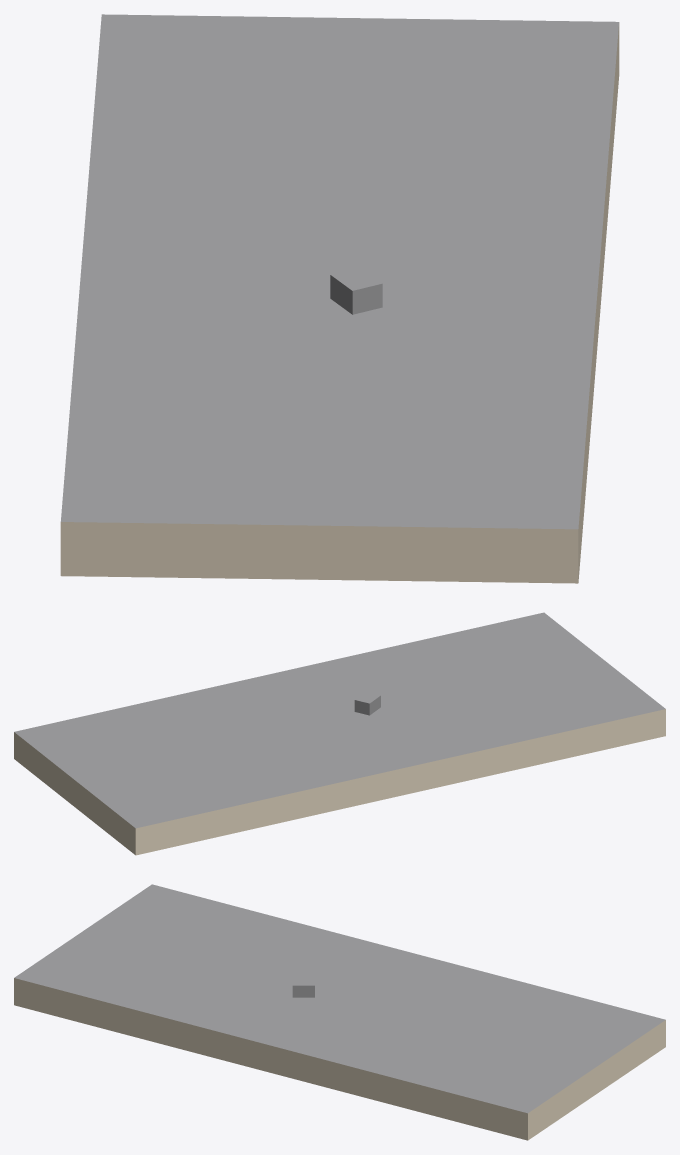
File: building_-6_-1.glb
The picture shows the model from 3 angles, top to bottom: view 1: azimuth 30°, elevation 25°; view 2: azimuth 150°, elevation 25°; view 3: azimuth 270°, elevation 25°; orthographic projection. The views are drawn at different scales.
Visible parts, largest first — view 1: roof, sandstone; view 2: roof, sandstone; view 3: roof, sandstone.
Boxes of the visible parts, bbox=[...] form: roof: bbox=[60, 14, 618, 529]; sandstone: bbox=[60, 22, 619, 583]; roof: bbox=[14, 612, 665, 828]; sandstone: bbox=[14, 709, 665, 855]; roof: bbox=[14, 884, 665, 1113]; sandstone: bbox=[14, 978, 665, 1140].
Bounding box in the file's own units: 53.96 × 4.32 × 64.91.
